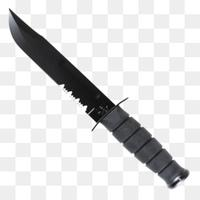knife: (5, 5, 184, 184)
